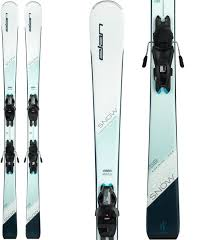skis: (86, 1, 180, 240), (1, 1, 44, 240)
